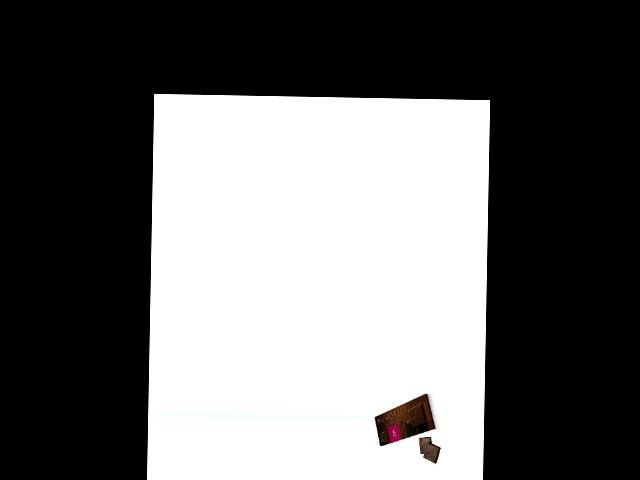chocolate: (373, 392, 437, 448)
